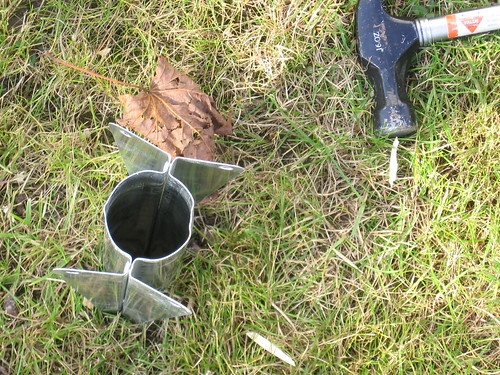hammer: (353, 5, 500, 140)
